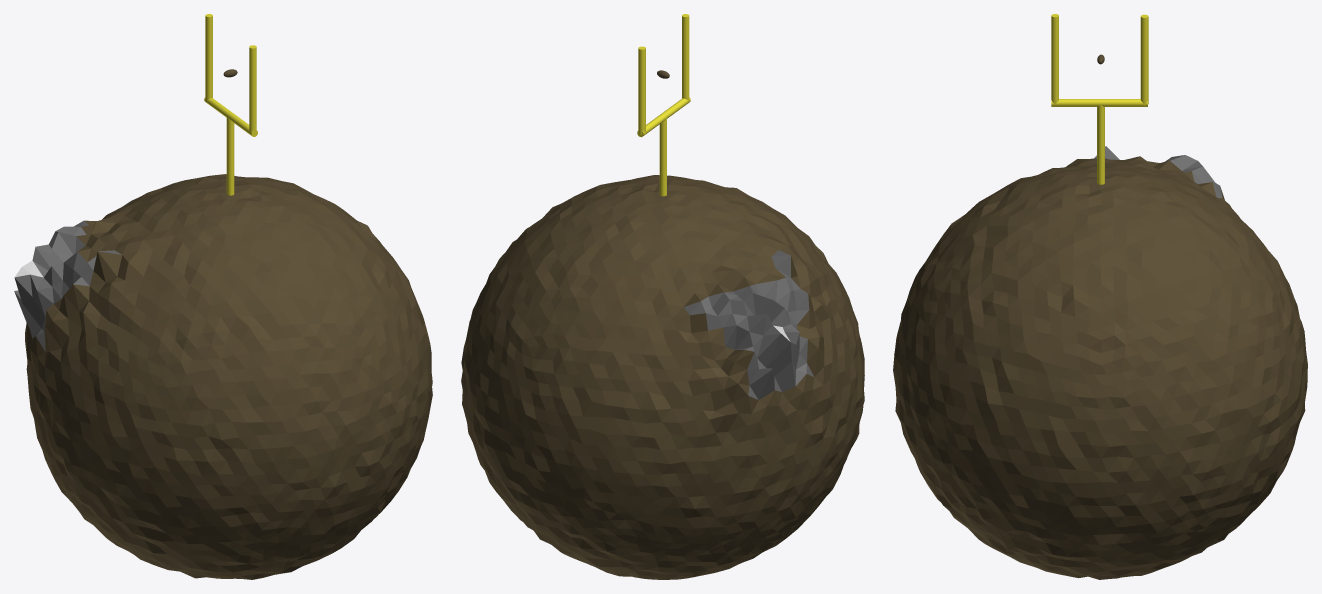
File: earth.glb
The picture shows the model from 3 angles, left to right: view 1: azimuth 30°, elevation 25°; view 2: azimuth 150°, elevation 25°; view 3: azimuth 270°, elevation 25°; orthographic projection. The views are drawn at different scales.
Parts seen in each view (by area): view 1: Icosphere, Circle; view 2: Icosphere, Circle; view 3: Icosphere, Circle.
Part boxes in pixels (x1,y1,x2,y2): Icosphere: (14,174,432,579); Circle: (204,14,257,195); Icosphere: (461,175,864,579); Circle: (637,14,690,196); Icosphere: (893,146,1307,579); Circle: (1051,14,1148,184).
Bounding box in the file's own units: 5.38 × 7.75 × 5.37.
